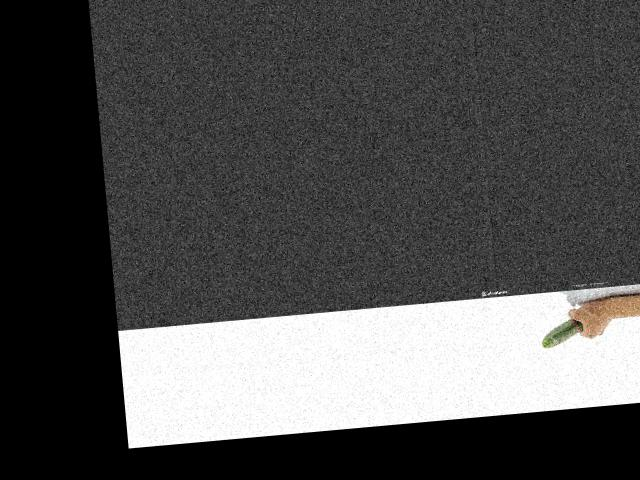cucumber: (540, 317, 584, 348)
